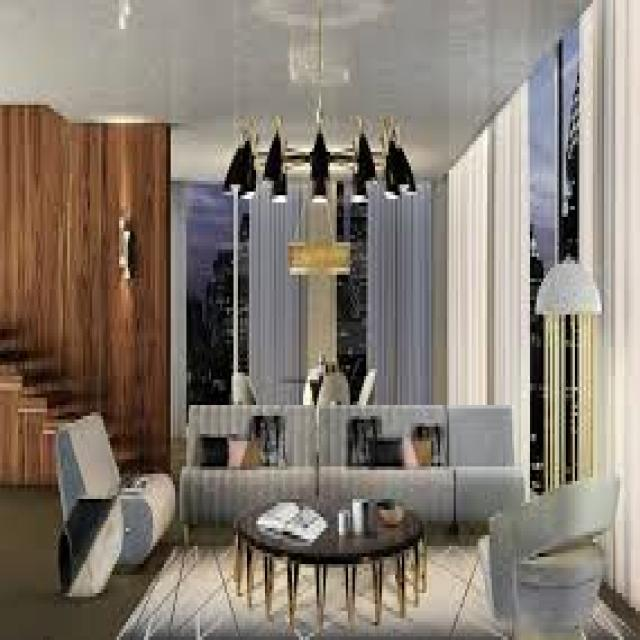Chair: (474, 443, 628, 618), (56, 409, 170, 577)
Lamp: (508, 228, 598, 512), (223, 97, 422, 213), (109, 198, 143, 278)
Sofa: (168, 386, 523, 551)
Table: (233, 492, 444, 614)
